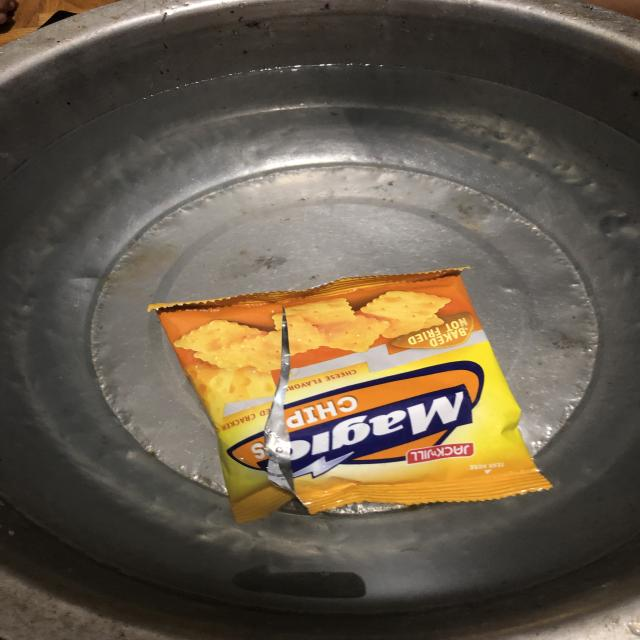Plastic Wrapper: (149, 269, 551, 522)
